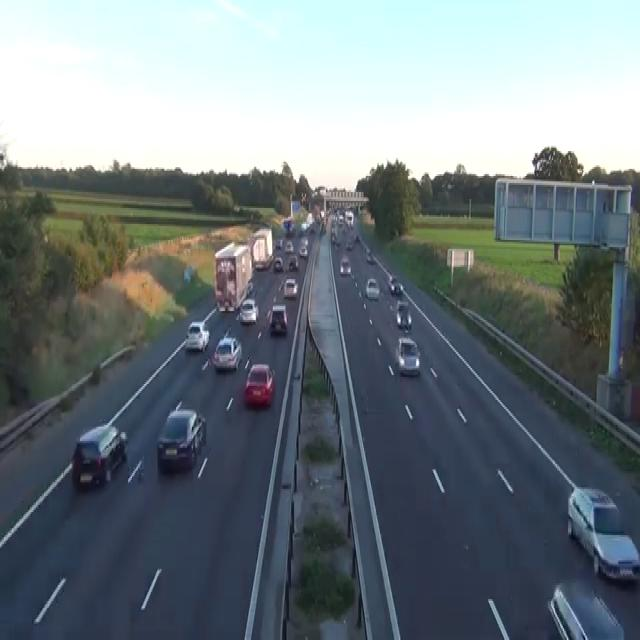Car: (566, 486, 639, 582), (547, 580, 625, 638), (71, 423, 128, 487), (156, 405, 206, 471), (593, 534, 639, 582), (244, 363, 275, 407), (212, 334, 242, 372), (396, 336, 420, 375), (184, 320, 209, 352), (238, 297, 259, 323), (269, 304, 287, 334), (396, 299, 411, 329), (283, 277, 298, 299), (388, 274, 403, 295), (365, 277, 379, 299), (339, 256, 351, 276), (183, 265, 195, 283), (273, 256, 283, 272), (288, 254, 298, 270), (298, 242, 308, 258), (331, 230, 340, 246), (441, 180, 455, 190), (0, 149, 7, 169), (247, 277, 254, 295), (300, 220, 308, 233), (275, 236, 283, 249), (366, 249, 373, 263), (285, 240, 293, 252), (300, 237, 308, 247), (282, 218, 290, 228), (345, 240, 353, 249), (309, 222, 315, 233), (320, 222, 326, 233), (338, 215, 343, 226), (355, 233, 360, 242)
Truck: (213, 240, 252, 311), (248, 226, 273, 268)
